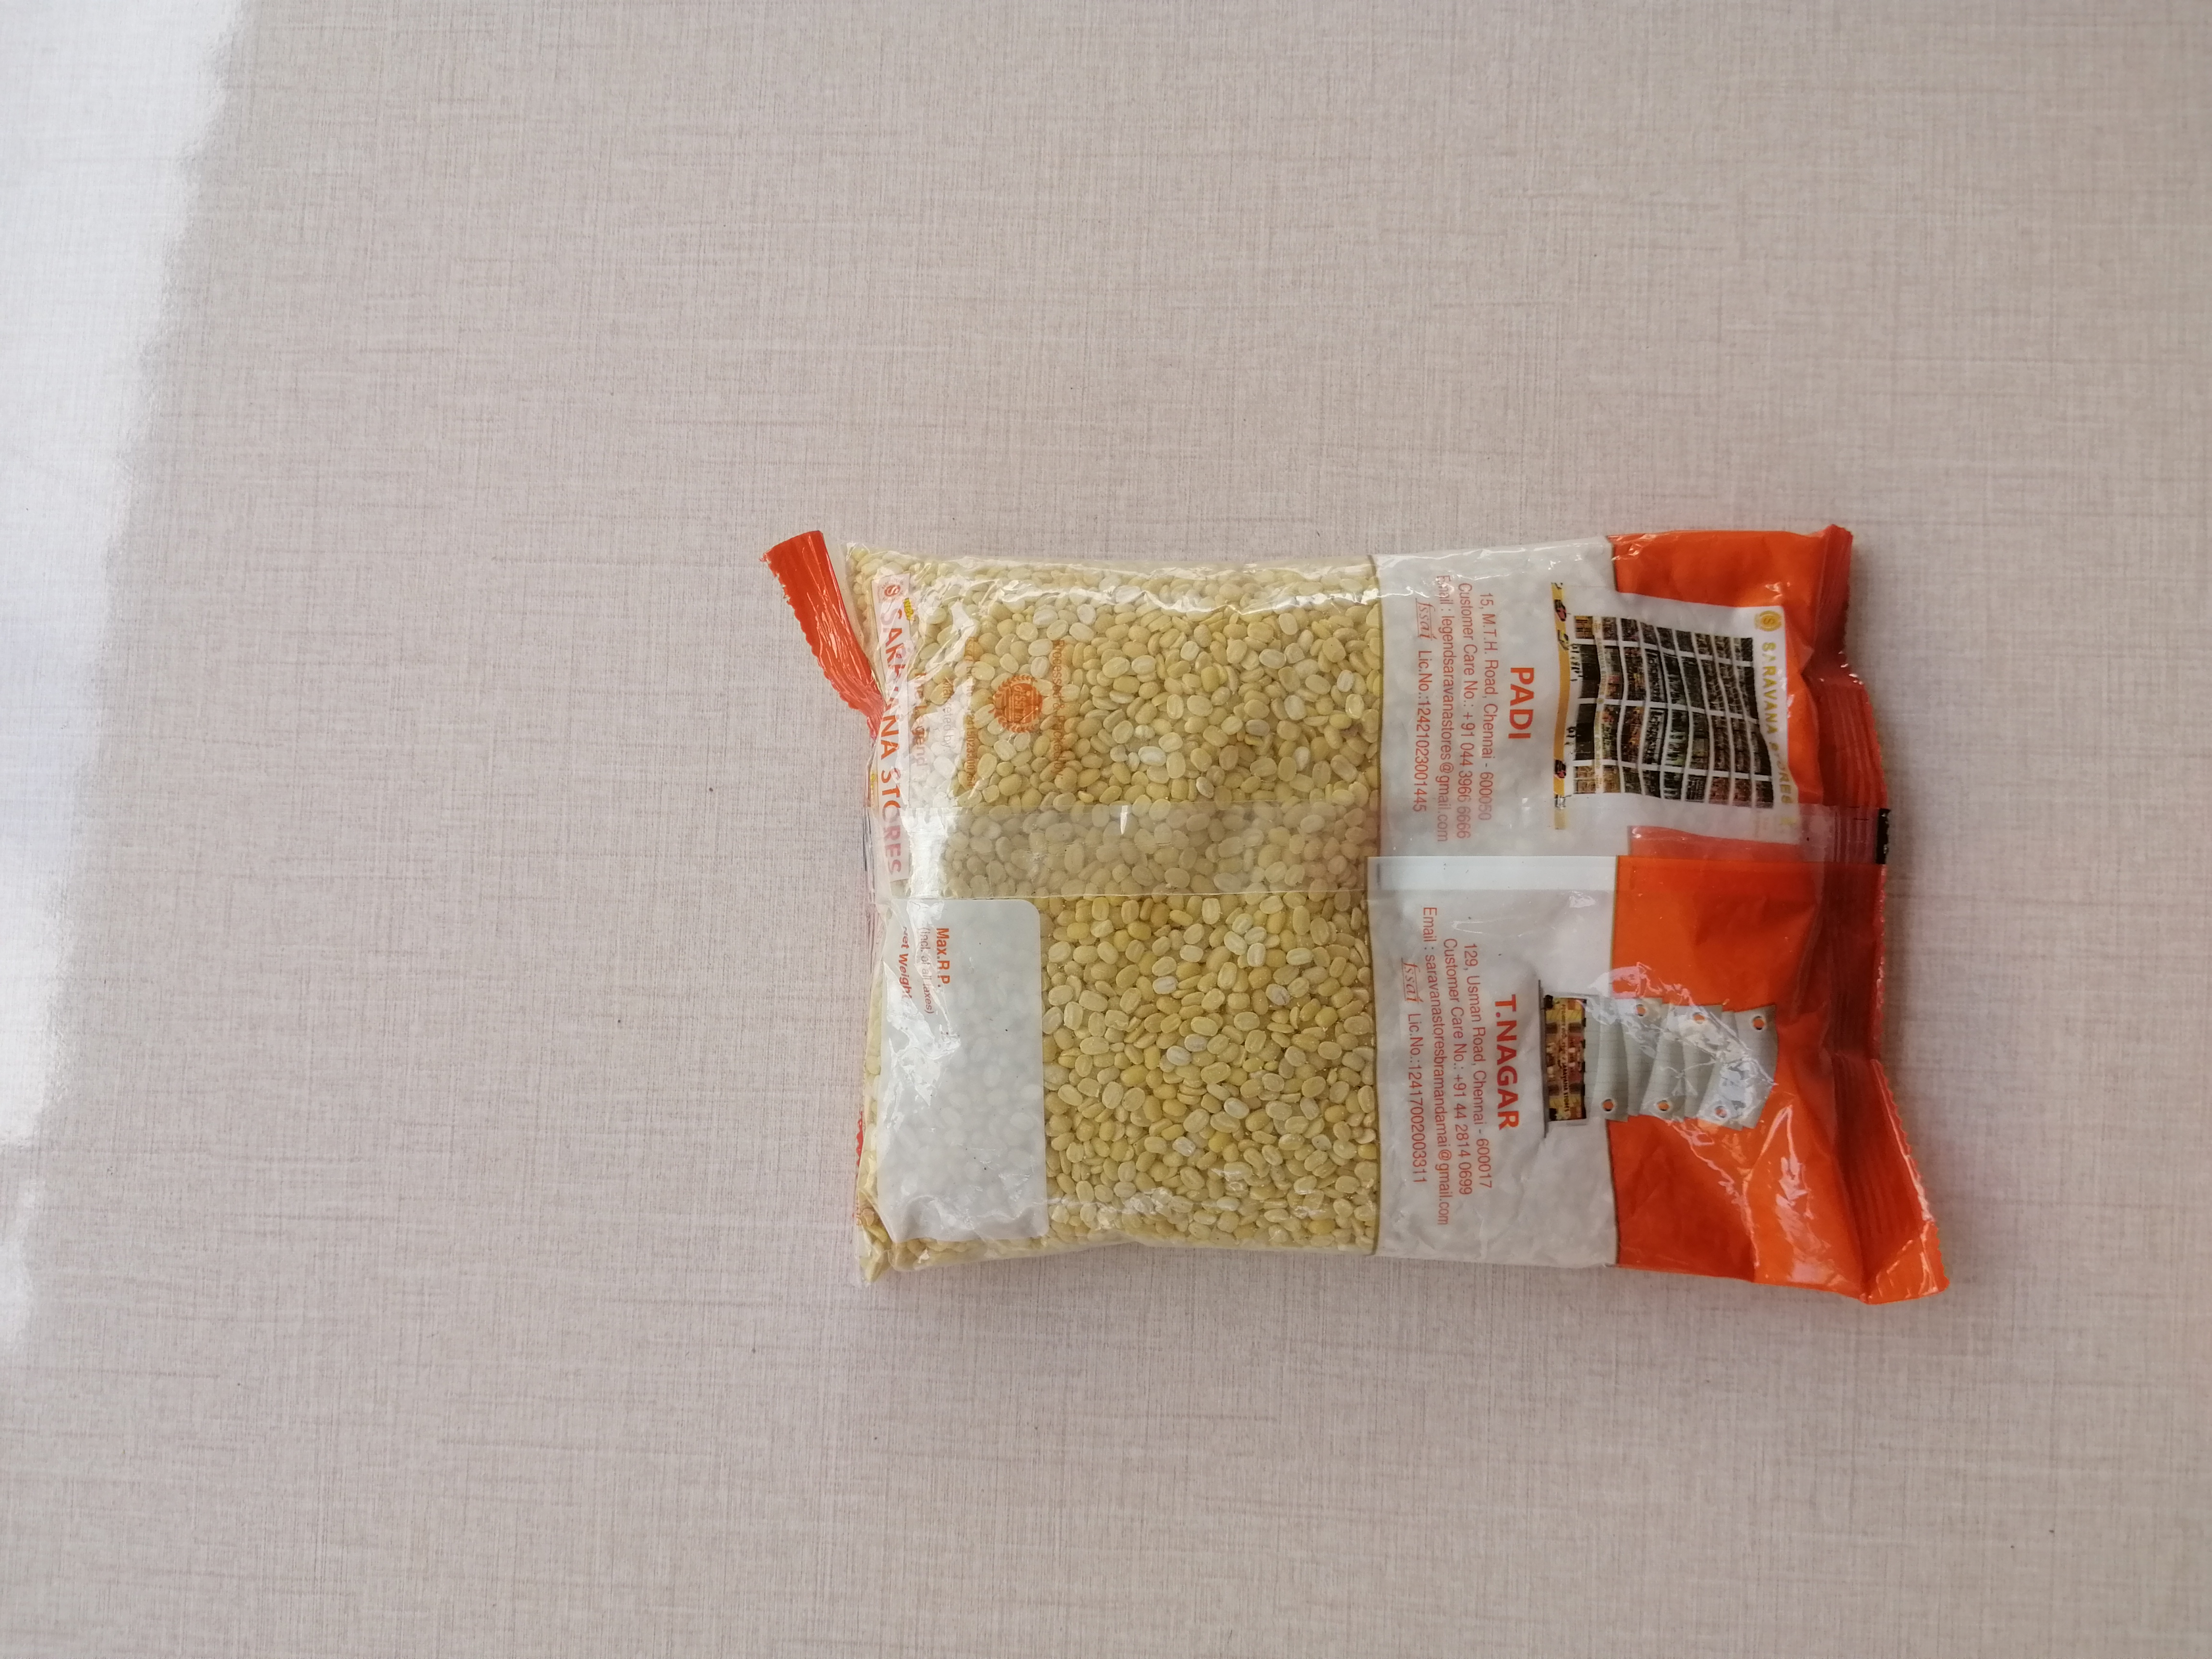moong_dhal: (801, 535, 1933, 1290)
